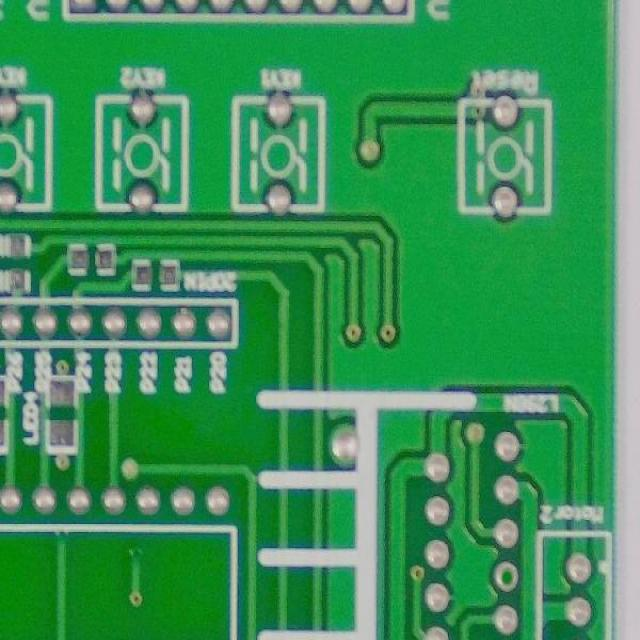missing hole: (490, 558, 524, 594)
